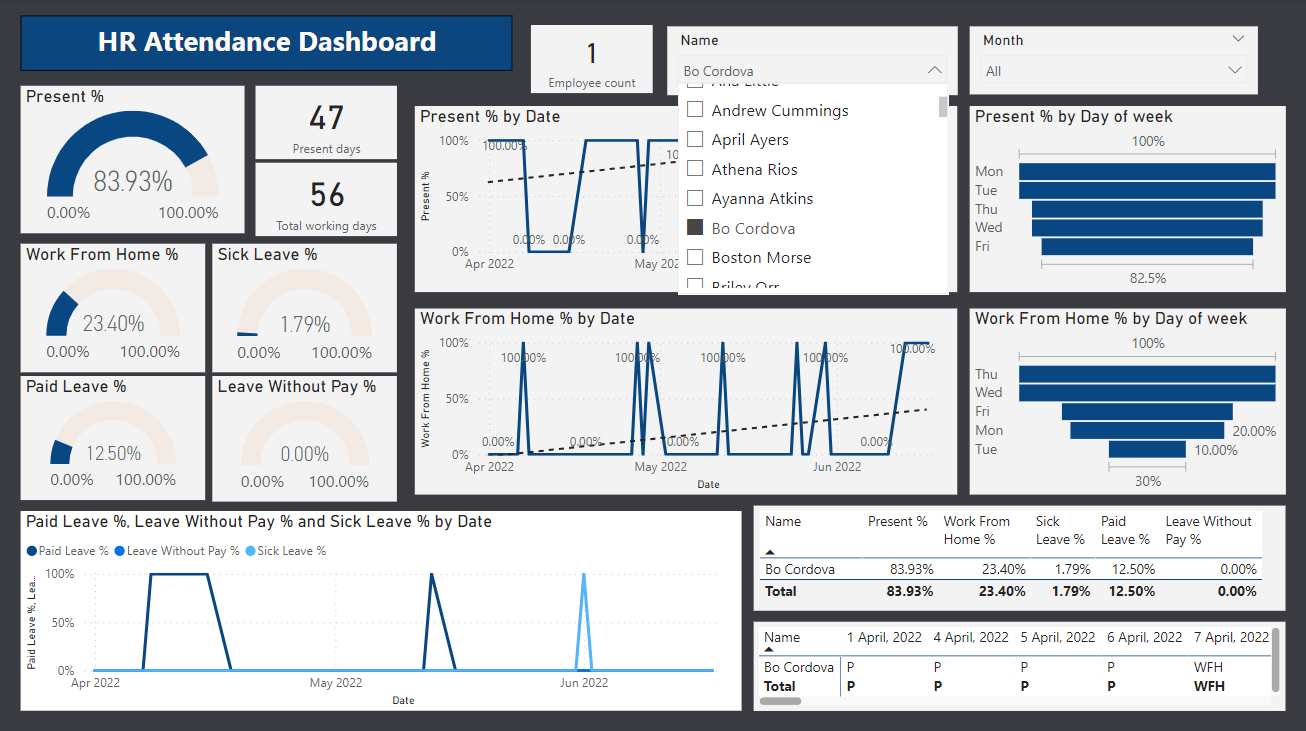

The dashboard page shown, as its layout file describes it:
{"tool":"powerbi","page":{"name":"Attendace insights","canvas":[1280,720],"ordinal":0},"visuals":[{"type":"gauge","fields":{"Y":["Measures Table.Present %"]},"box":[21.1,85.9,219.4,144.1],"z":0},{"type":"slicer","fields":{"Values":["Final Data.Month"]},"box":[950,28,282,67],"z":1000},{"type":"gauge","fields":{"Y":["Measures Table.WFH %"]},"box":[21.1,240.6,181.1,125.6],"z":2000},{"type":"gauge","fields":{"Y":["Measures Table.SL %"]},"box":[209,240.5,180.5,126],"z":3000},{"type":"tableEx","fields":{"Values":["Final Data.Name","Measures Table.Present %","Measures Table.WFH %","Measures Table.SL %","Measures Table.PL %","Measures Table.WPL %"]},"box":[738.9,497,520.8,103.1],"z":4000},{"type":"pivotTable","fields":{"Rows":["Final Data.Name"],"Values":["Min(Final Data.Value)"],"Columns":["Final Data.Date"]},"box":[738.9,610.7,520.8,87.2],"z":5000},{"type":"lineChart","fields":{"Category":["Final Data.Date"],"Y":["Measures Table.Present %"]},"box":[407.1,105.7,531.4,182.4],"z":6000},{"type":"lineChart","fields":{"Category":["Final Data.Date"],"Y":["Measures Table.WFH %"]},"box":[407.1,304,531.4,182.4],"z":7000},{"type":"funnel","fields":{"Category":["Final Data.Day of week"],"Y":["Measures Table.Present %"]},"box":[950.4,105.7,309.3,182.4],"z":8000},{"type":"funnel","fields":{"Category":["Final Data.Day of week"],"Y":["Measures Table.WFH %"]},"box":[950.4,304,309.3,182.4],"z":9000},{"type":"card","fields":{"Values":["Measures Table.Employee count"]},"box":[521,27,119,67],"z":10000},{"type":"slicer","fields":{"Values":["Final Data.Name"]},"box":[654.3,27.8,284.2,67.4],"z":11000},{"type":"lineChart","fields":{"Category":["Final Data.Date"],"Y":["Measures Table.PL %","Measures Table.WPL %","Measures Table.SL %"]},"box":[21.1,502.3,705.8,195.6],"z":12000},{"type":"gauge","fields":{"Y":["Measures Table.PL %"]},"box":[21.1,370.1,181.1,121.6],"z":13000},{"type":"gauge","fields":{"Y":["Measures Table.WPL %"]},"box":[208.8,370.1,181.1,122.9],"z":14000},{"type":"card","fields":{"Values":["Measures Table.Total working days"]},"box":[251.1,161.3,138.8,72],"z":15000},{"type":"card","fields":{"Values":["Measures Table.Present days"]},"box":[251.1,85.9,138.8,72],"z":16000},{"type":"textbox","box":[21.1,17.2,481.1,54.2],"z":17000}]}

Visuals, with their boxes in screenshot pixels (x1, y1, x2, y2), scaled from the page's 1280x720 canvas onto the 1306x731 screenshot:
gauge - Measures Table.Present %: region(22, 87, 245, 234)
slicer - Final Data.Month: region(969, 28, 1257, 96)
gauge - Measures Table.WFH %: region(22, 244, 206, 372)
gauge - Measures Table.SL %: region(213, 244, 397, 372)
tableEx - Final Data.Name x Measures Table.Present %: region(754, 505, 1285, 609)
pivotTable - Final Data.Name x Min(Final Data.Value): region(754, 620, 1285, 709)
lineChart - Final Data.Date x Measures Table.Present %: region(415, 107, 958, 293)
lineChart - Final Data.Date x Measures Table.WFH %: region(415, 309, 958, 494)
funnel - Final Data.Day of week x Measures Table.Present %: region(970, 107, 1285, 293)
funnel - Final Data.Day of week x Measures Table.WFH %: region(970, 309, 1285, 494)
card - Measures Table.Employee count: region(532, 27, 653, 95)
slicer - Final Data.Name: region(668, 28, 958, 97)
lineChart - Final Data.Date x Measures Table.PL %: region(22, 510, 742, 709)
gauge - Measures Table.PL %: region(22, 376, 206, 499)
gauge - Measures Table.WPL %: region(213, 376, 398, 501)
card - Measures Table.Total working days: region(256, 164, 398, 237)
card - Measures Table.Present days: region(256, 87, 398, 160)
textbox: region(22, 17, 512, 72)
